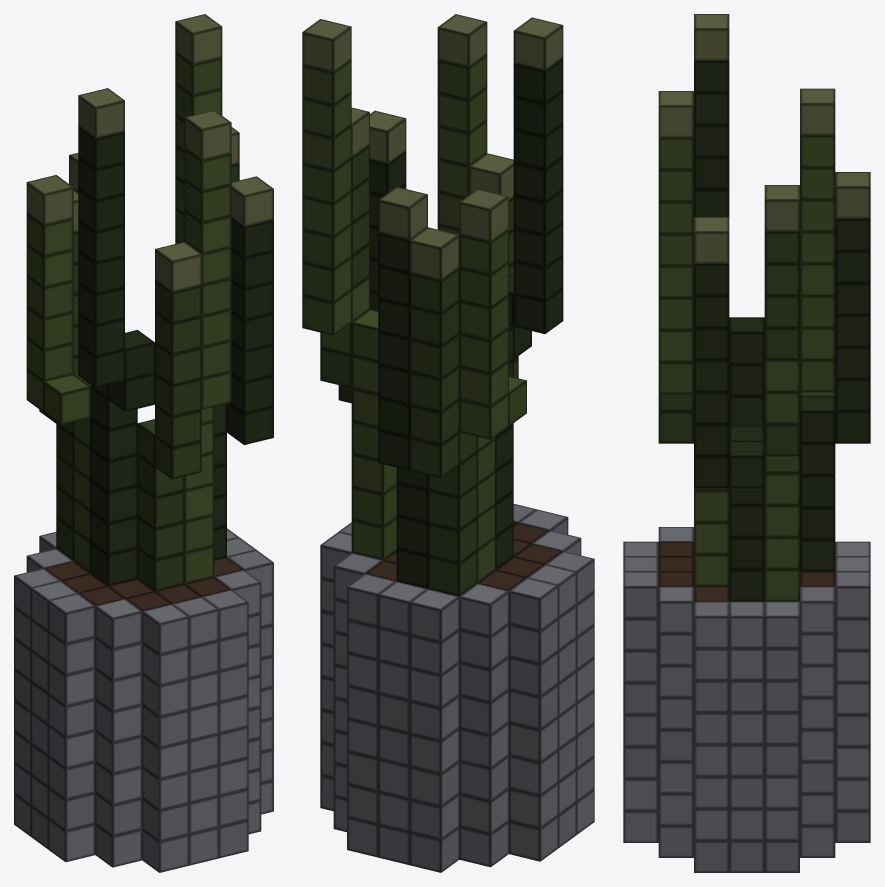
File: potted_plant.glb
3 views of the same model, side by side, from view 1: azimuth 30°, elevation 25°; view 2: azimuth 150°, elevation 25°; view 3: azimuth 270°, elevation 25° (orthographic). The views are drawn at different scales.
Parts seen in each view (by area): view 1: potted_plant; view 2: potted_plant; view 3: potted_plant.
Part boxes in pixels (box(x1,y1,x2,y2)): potted_plant: box(14, 14, 273, 872); potted_plant: box(302, 14, 594, 872); potted_plant: box(623, 14, 870, 872).
Size of the model in its own units: 0.35 by 1.2 by 0.35.
Materials: 6 (6 with a texture image).
